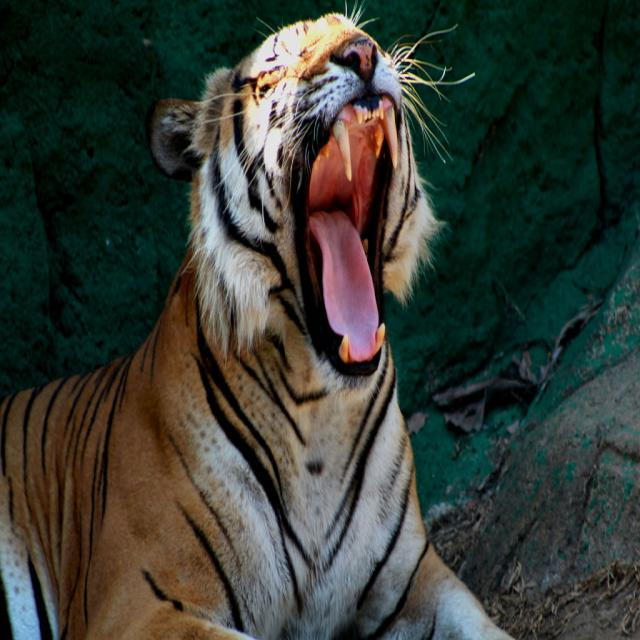Tiger: (0, 0, 515, 639)
